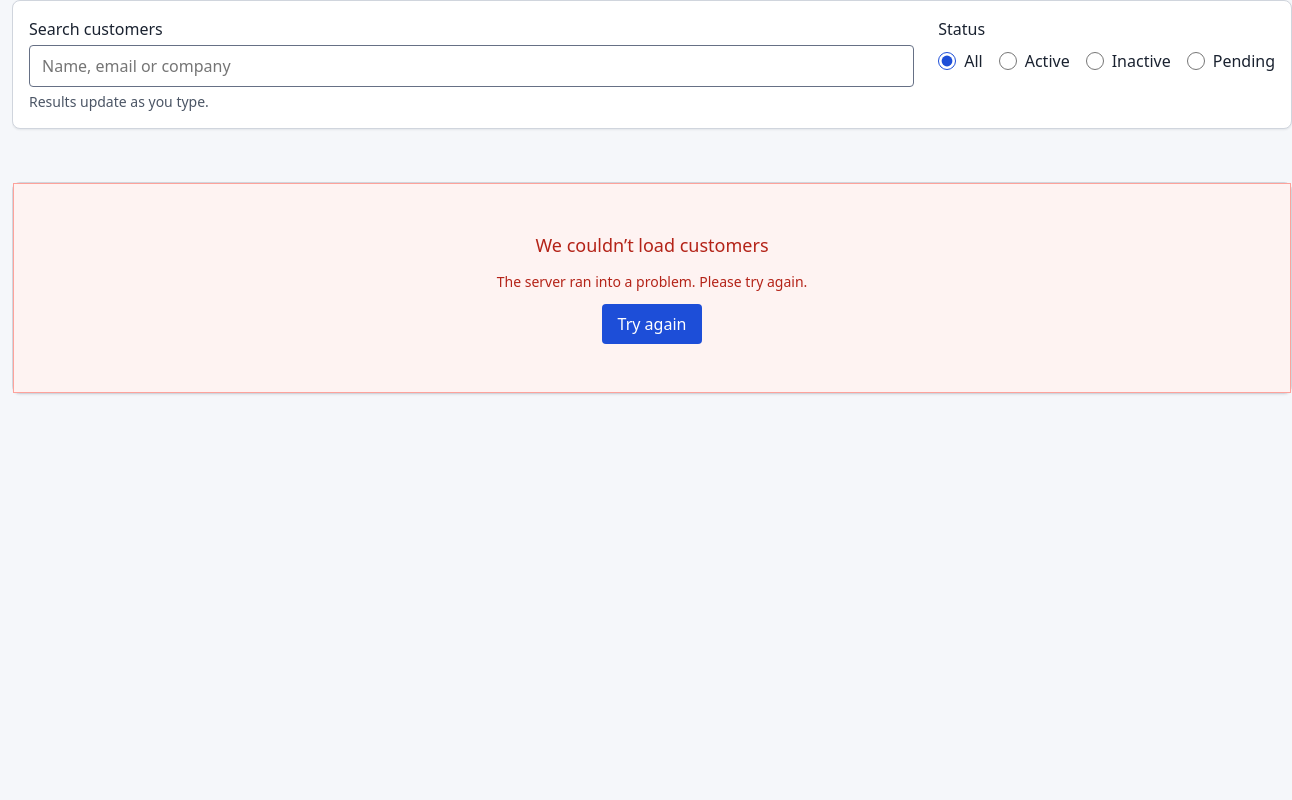
Scenario: CustomerDashboard: errors and retry › shows an alert when the server fails, and recovers with "Try again"
The width and height of the screenshot is (1292, 800).
Expected: the message that starts with "We couldn’t load customers" is shown, x1=536 y1=233 x2=768 y2=257
Expected: the message that starts with "We couldn’t load customers" shows "The server ran into a problem", x1=497 y1=272 x2=807 y2=291
Click the button "Try again": [652, 324] box x1=602 y1=304 x2=702 y2=344
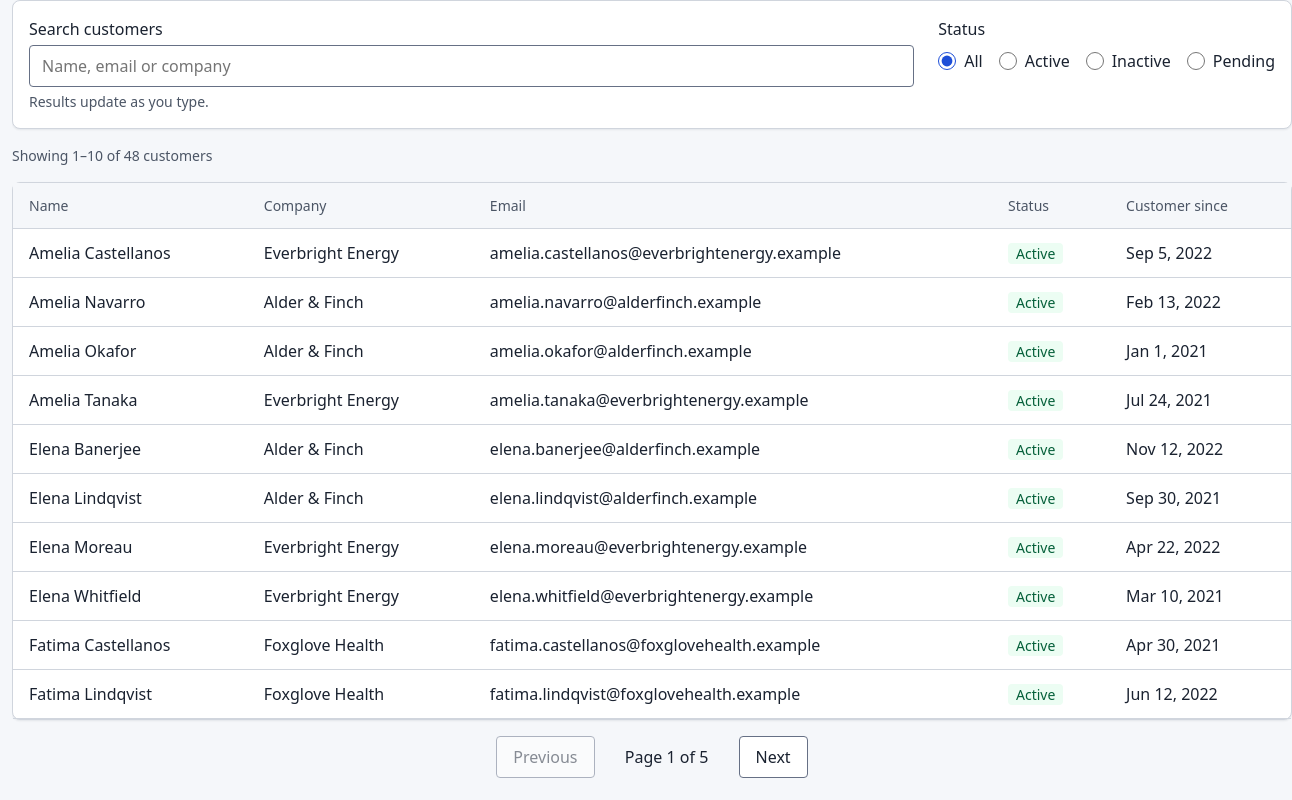
Now the table named "Customer search results" is shown
